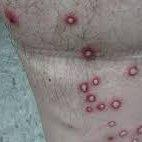Ants: (80, 45, 95, 60), (5, 9, 18, 25), (109, 97, 123, 111), (78, 80, 90, 93), (117, 127, 128, 138), (64, 14, 76, 24), (96, 101, 106, 112), (128, 65, 138, 75), (89, 76, 100, 85), (84, 105, 95, 113), (107, 120, 115, 127), (131, 136, 141, 141), (86, 95, 95, 100), (136, 125, 141, 134), (107, 135, 114, 141)
